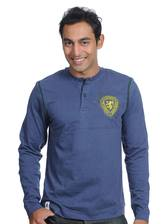clothoes: (13, 65, 155, 221)
